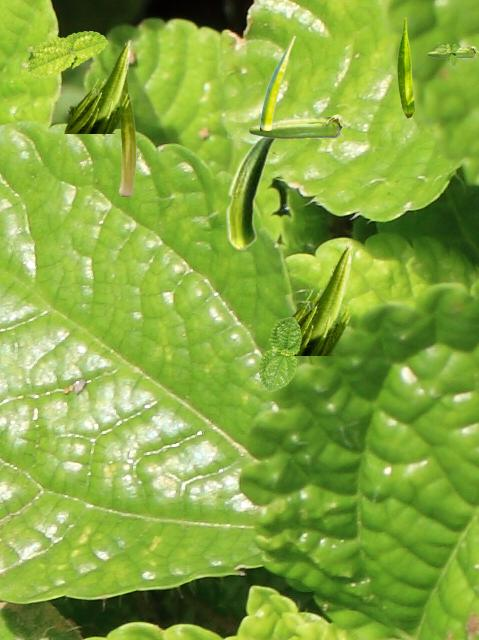okra: (291, 242, 354, 354), (63, 39, 132, 132), (225, 137, 276, 250), (260, 35, 294, 129), (248, 114, 346, 138), (119, 69, 135, 195), (397, 17, 414, 117), (427, 46, 477, 57)
